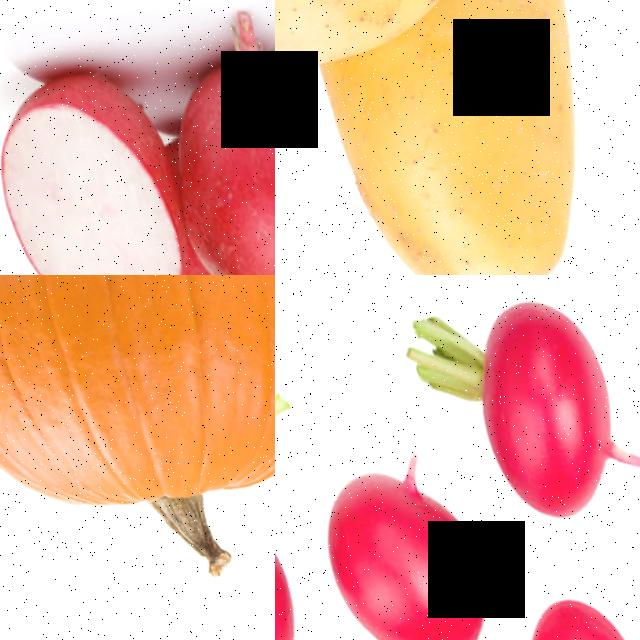potato: (312, 1, 628, 275), (275, 0, 484, 114)
pumpkin: (0, 275, 275, 561)
radishes: (0, 0, 275, 275)
spinach: (433, 277, 636, 536), (304, 440, 507, 640)
